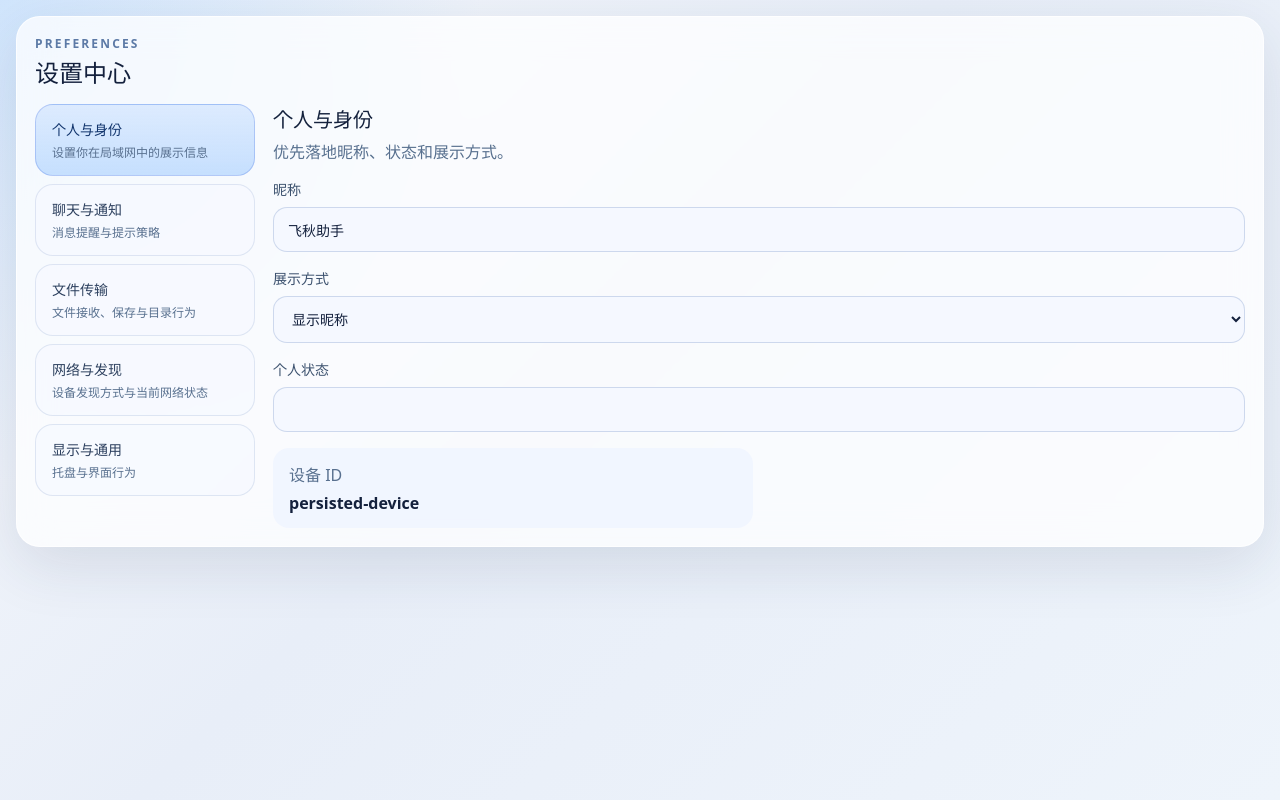
Scenario: loads persisted discovery refresh history in settings view
Click the button "网络与发现 设备发现方式与当前网络状态" at (145, 380), box [35, 344, 255, 416]
(page scrolled)
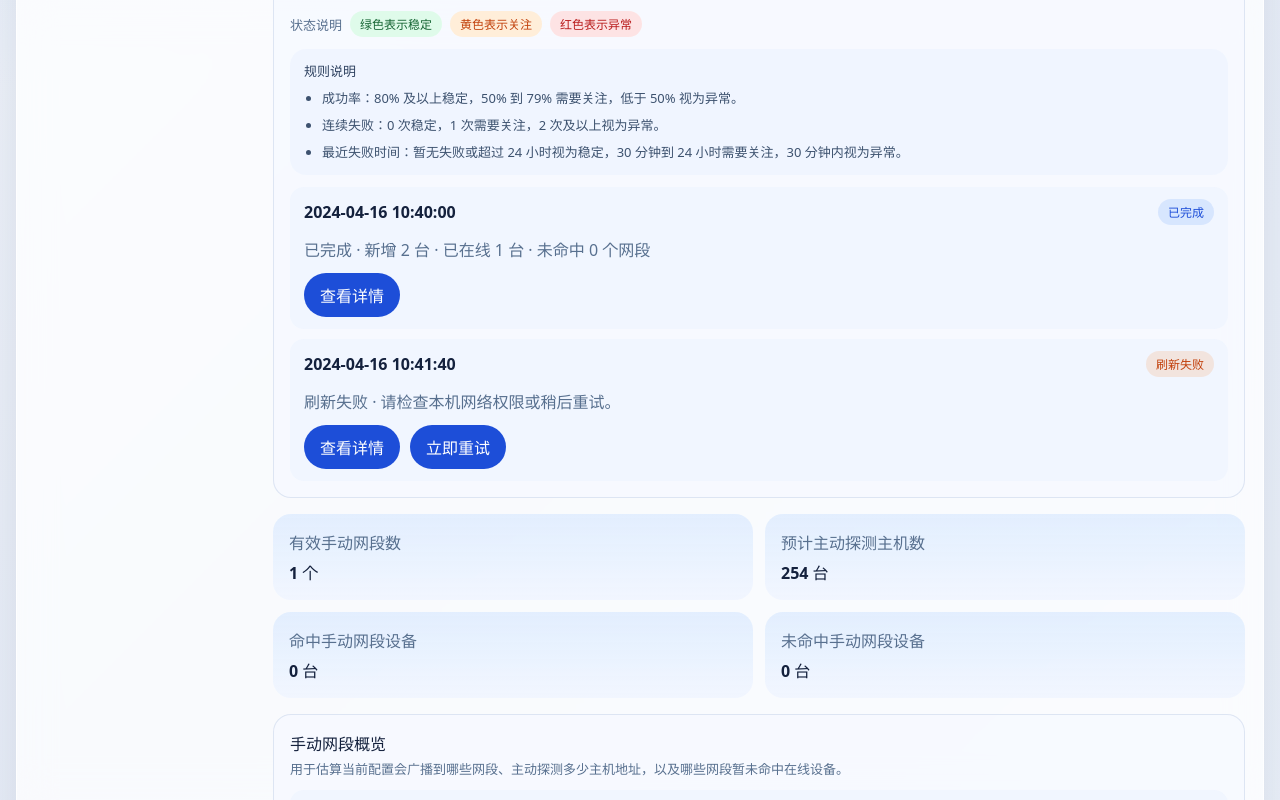
Expected: the text "已完成 · 新增 2 台 · 已在线 1 台 · 未命中 0 个网段" is shown, [304, 239, 650, 261]
Expected: the text "刷新失败 · 请检查本机网络权限或稍后重试。" is shown, [304, 391, 621, 413]
